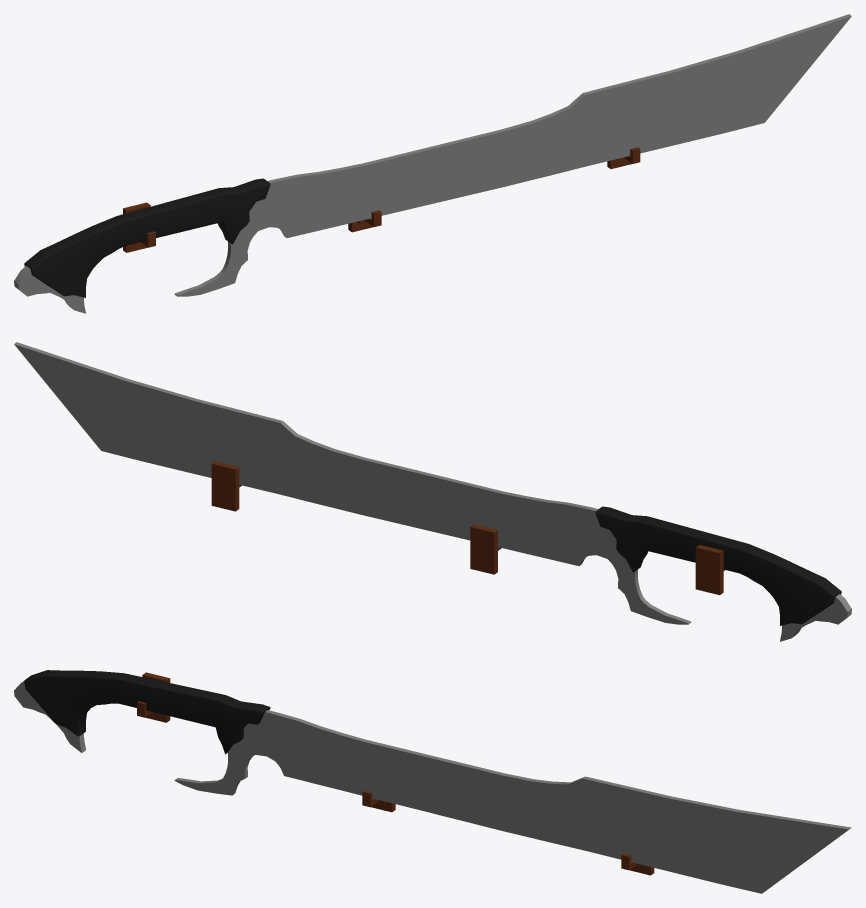
The model's file is THS.fbx.
3 views of the same model, one above another, from view 1: azimuth 30°, elevation 25°; view 2: azimuth 150°, elevation 25°; view 3: azimuth 330°, elevation 25° (orthographic).
Visible parts, largest first — view 1: Two_Handed_Sword; view 2: Two_Handed_Sword; view 3: Two_Handed_Sword.
Part boxes in pixels (bbox=[...]): Two_Handed_Sword: bbox=[14, 14, 851, 313]; Two_Handed_Sword: bbox=[14, 342, 851, 641]; Two_Handed_Sword: bbox=[14, 670, 851, 893].
Size of the model in its own units: 197 by 27.07 by 7.07.
